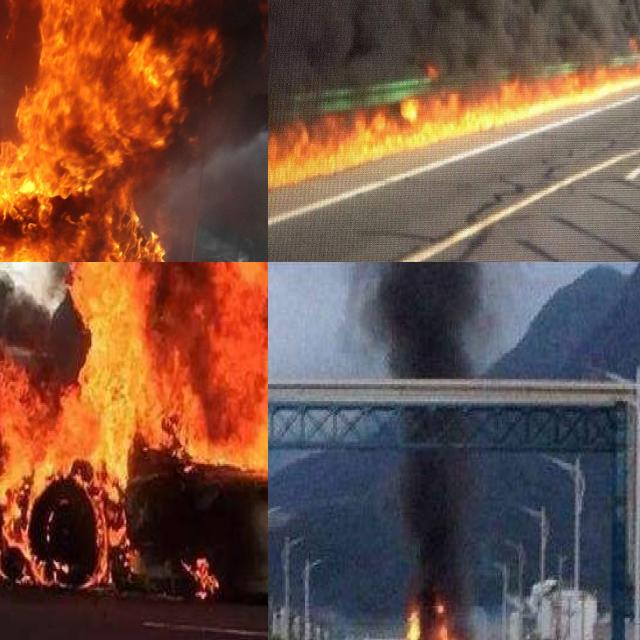fire: (0, 262, 268, 604), (0, 0, 225, 262), (268, 38, 640, 183), (399, 592, 512, 640)
smoke: (375, 262, 481, 590), (165, 0, 268, 261), (0, 278, 90, 390)
